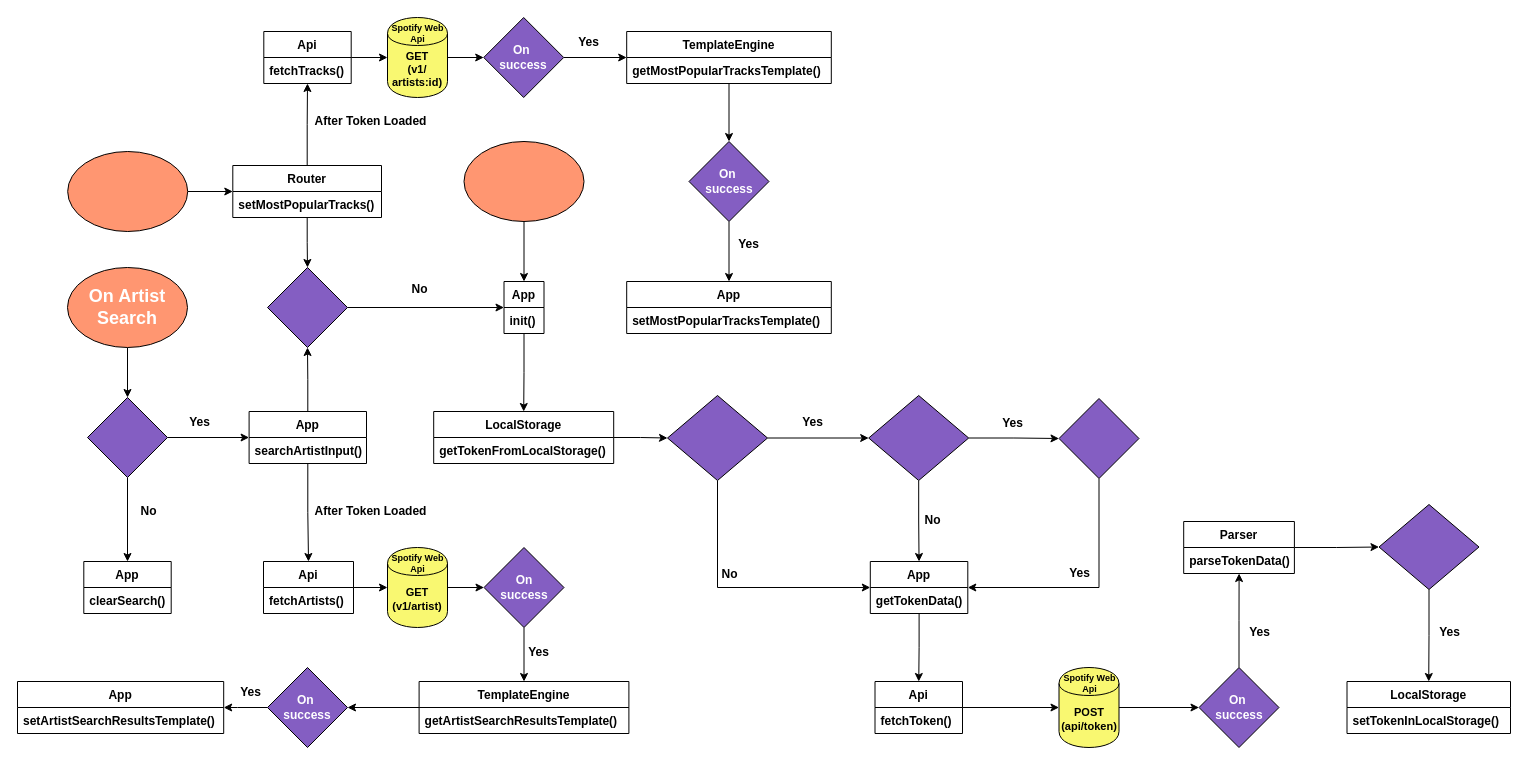
Some shapes in this 1528 by 765 pixel diagram are drawn without their labels. The centre of each missing label's shape, as x and y in pixels:
Empty Input: [127,437]
is expired: [1098,438]
Load Page: [523,181]
local storage available: [717,437]
On Artist Select: [127,191]
stored in local storage: [918,437]
Token Data Complete: [1428,547]
Token Loaded: [307,307]
